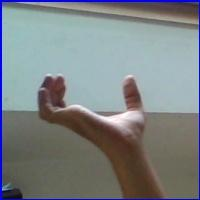B: (30, 68, 158, 156)
